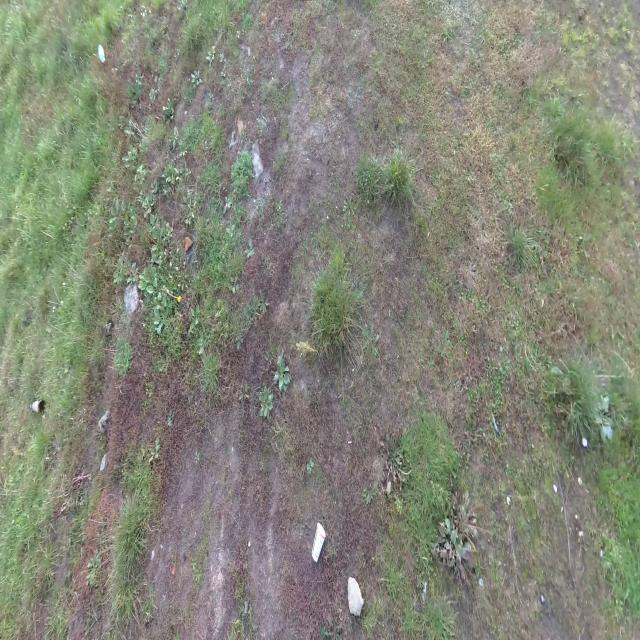rubbish: (310, 521, 326, 564), (348, 576, 364, 617), (28, 400, 48, 414), (98, 43, 106, 66)
